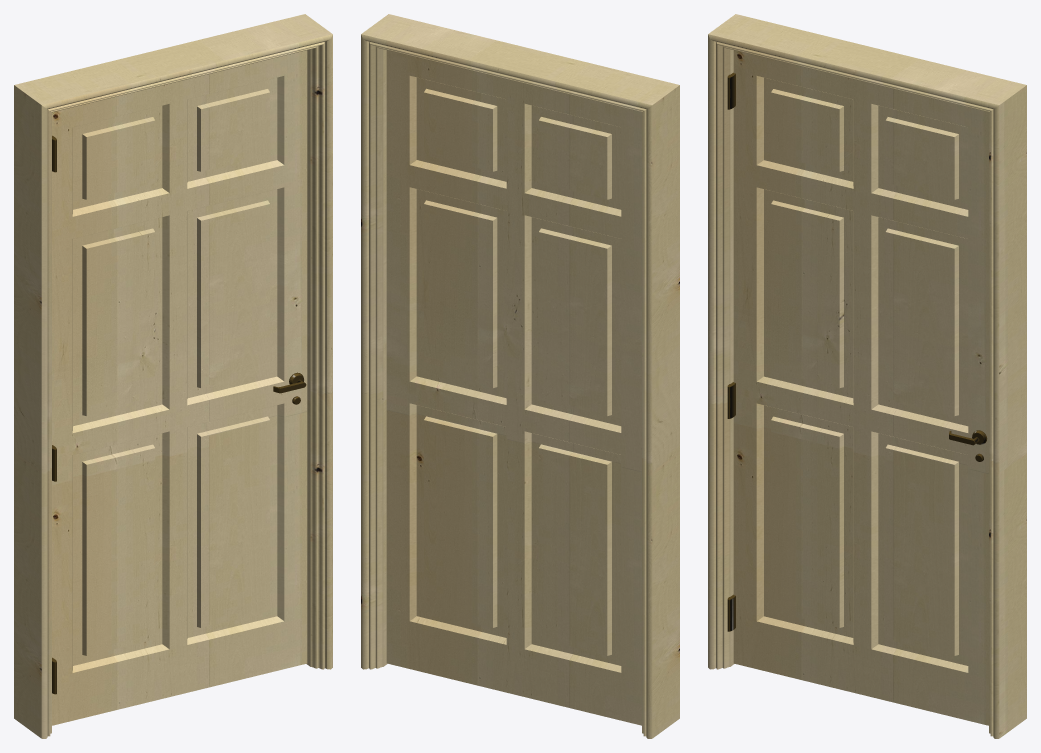
Rendered from DoorS2.obj.
The picture shows the model from 3 angles, left to right: view 1: azimuth 30°, elevation 25°; view 2: azimuth 150°, elevation 25°; view 3: azimuth 330°, elevation 25°; orthographic projection.
Parts seen in each view (by area): view 1: door; view 2: door; view 3: door.
Boxes of the visible parts, bbox=[...] form: door: bbox=[14, 14, 332, 738]; door: bbox=[361, 14, 679, 738]; door: bbox=[708, 14, 1026, 738].
Size of the model in its own units: 0.2986 by 0.6208 by 0.0538.
Materials: 1 (1 with a texture image).
